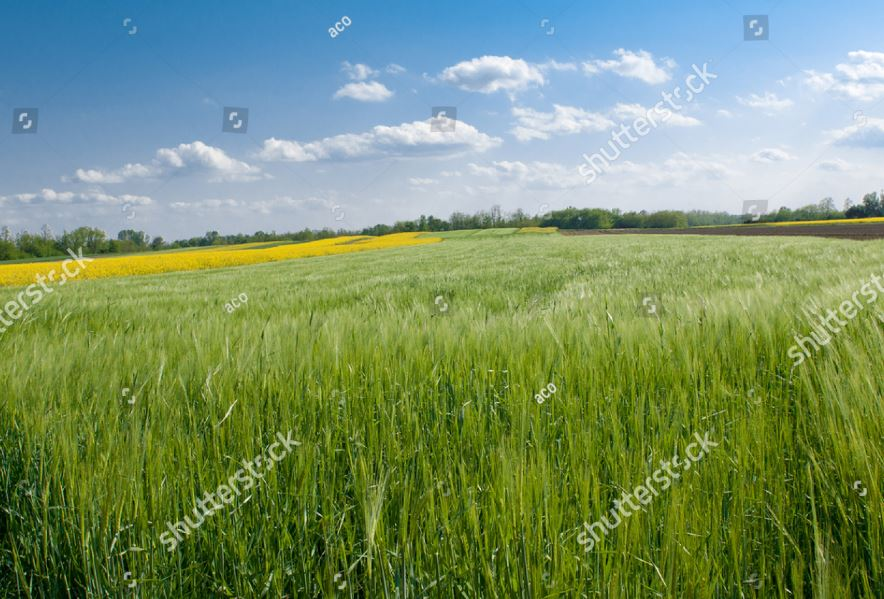Wheat: (312, 338, 786, 583)
